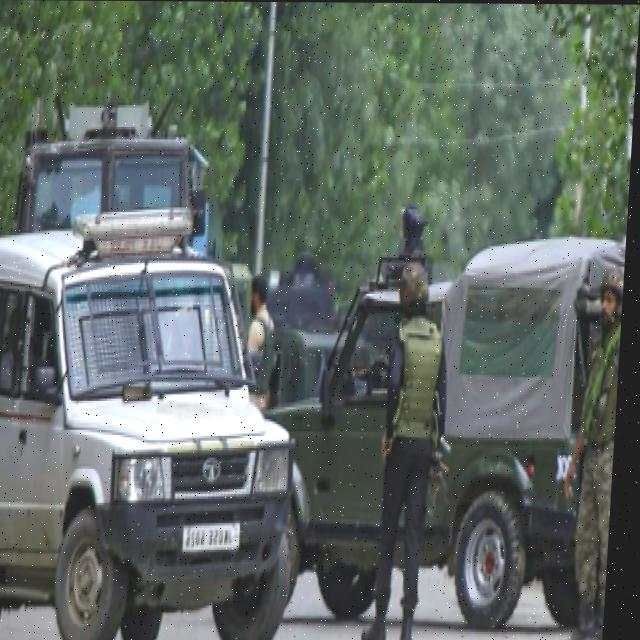plate: (184, 523, 254, 553)
